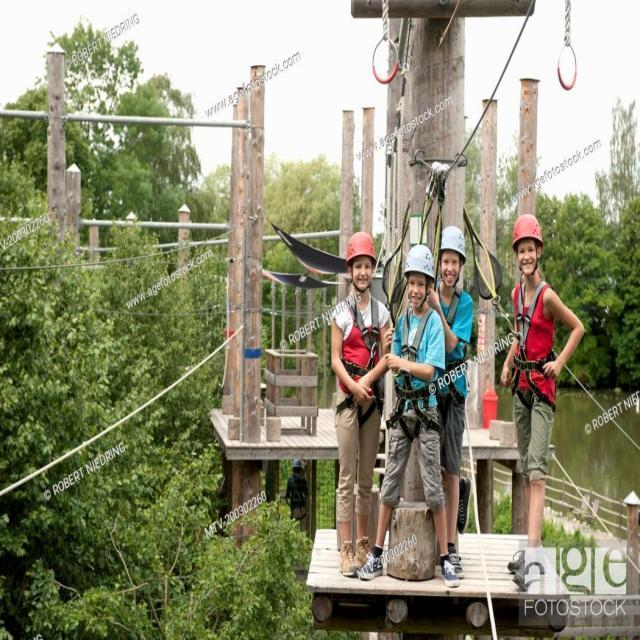No_BreathingApparatus: (351, 255, 375, 292), (439, 253, 462, 289), (516, 240, 539, 275), (405, 274, 426, 310)
No_Glove: (349, 376, 376, 411)
Person: (326, 233, 389, 583)
